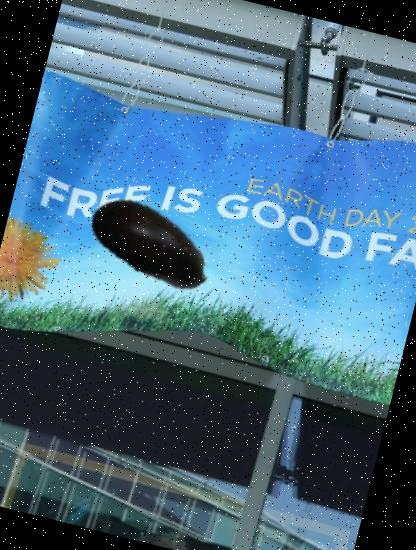Eggplant: (70, 163, 234, 327)
